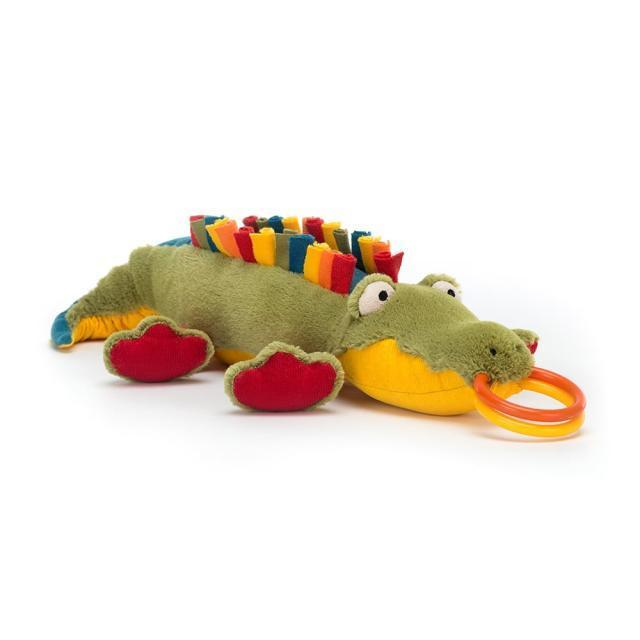soft-toy: (52, 216, 584, 439)
